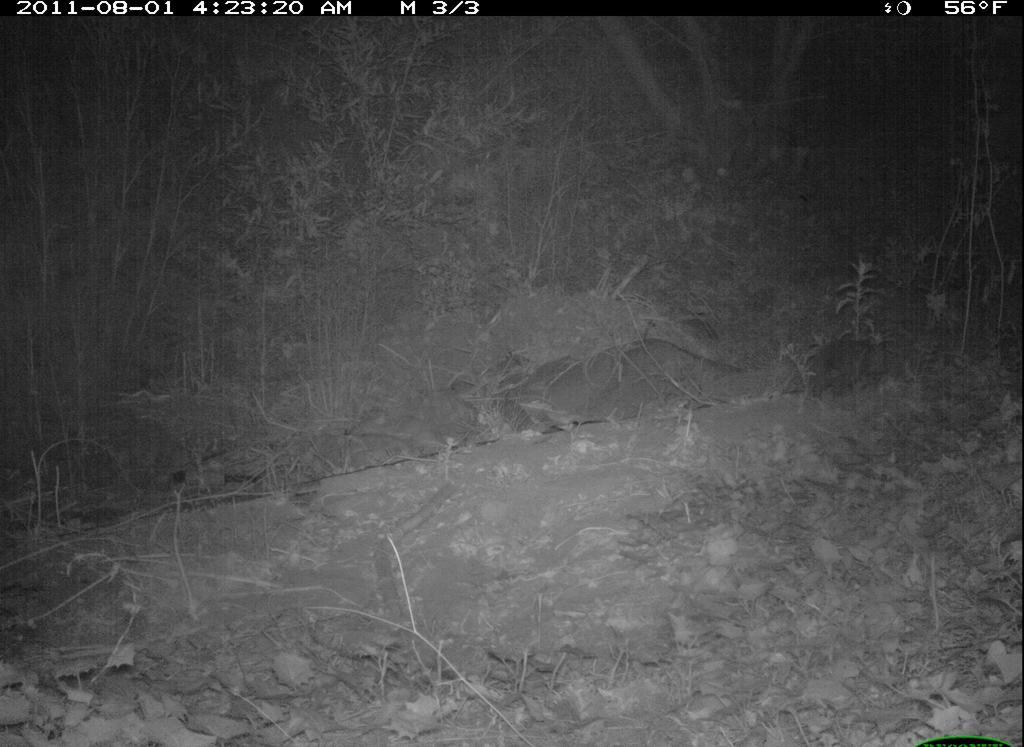opossum: (792, 324, 903, 406)
